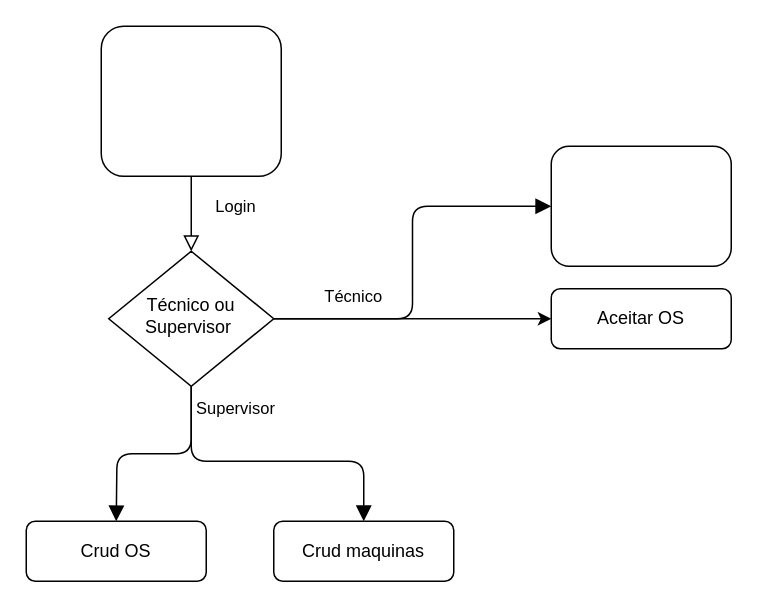
Image size: 758x608. Some labels were removed from this diagram. Each missing label, with the box of its shape:
Home: (100, 25, 281, 176)
Visualizar OS: (550, 145, 731, 266)
